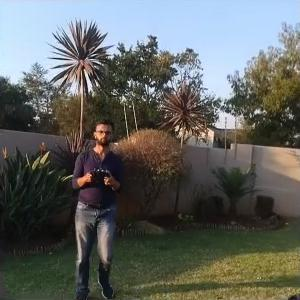follow: (68, 116, 129, 299)
